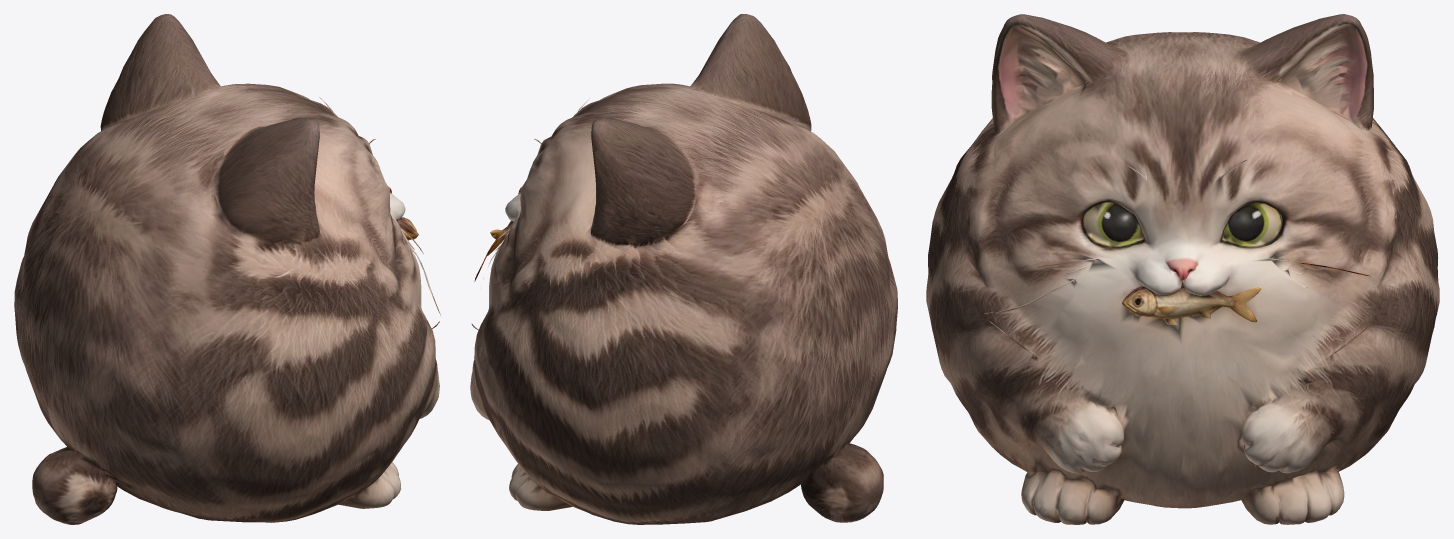
File: CAT_L05.glb
3 views of the same model, side by side, from view 1: azimuth 30°, elevation 25°; view 2: azimuth 150°, elevation 25°; view 3: azimuth 270°, elevation 25° (orthographic). The views are drawn at different scales.
Visible parts, largest first — view 1: tripo_node_f029da11-71c3-4d94-8aa8-70048fe7020b; view 2: tripo_node_f029da11-71c3-4d94-8aa8-70048fe7020b; view 3: tripo_node_f029da11-71c3-4d94-8aa8-70048fe7020b.
Part boxes in pixels (x1,y1,x2,y2): tripo_node_f029da11-71c3-4d94-8aa8-70048fe7020b: (14,14,440,524); tripo_node_f029da11-71c3-4d94-8aa8-70048fe7020b: (470,14,897,524); tripo_node_f029da11-71c3-4d94-8aa8-70048fe7020b: (926,14,1439,524).
Bounding box in the file's own units: 0.8867 × 0.9695 × 0.9802.
Materials: 1 (1 with a texture image).
